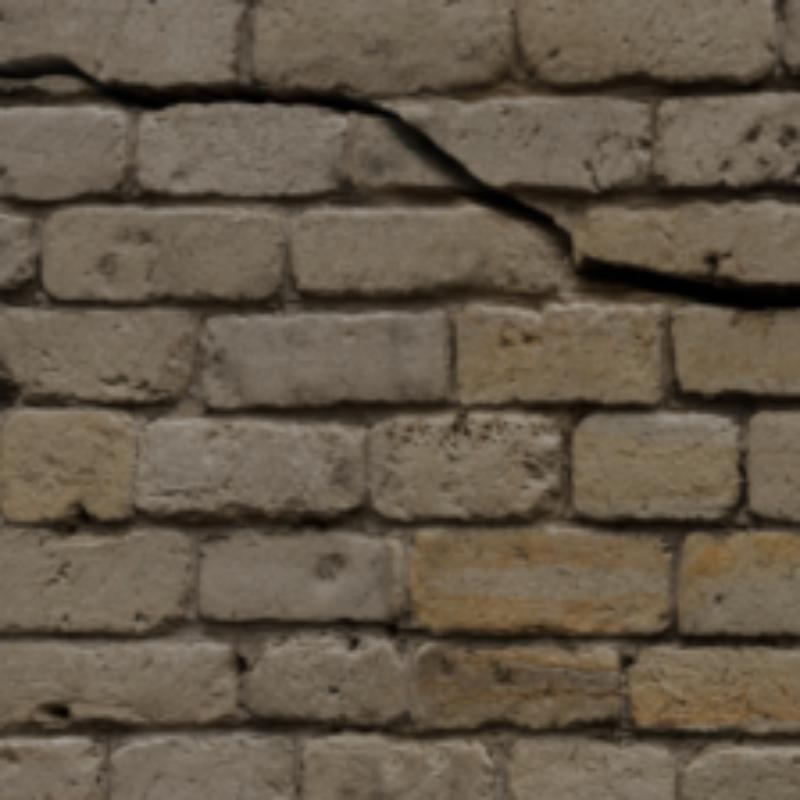crack: (0, 57, 796, 311)
